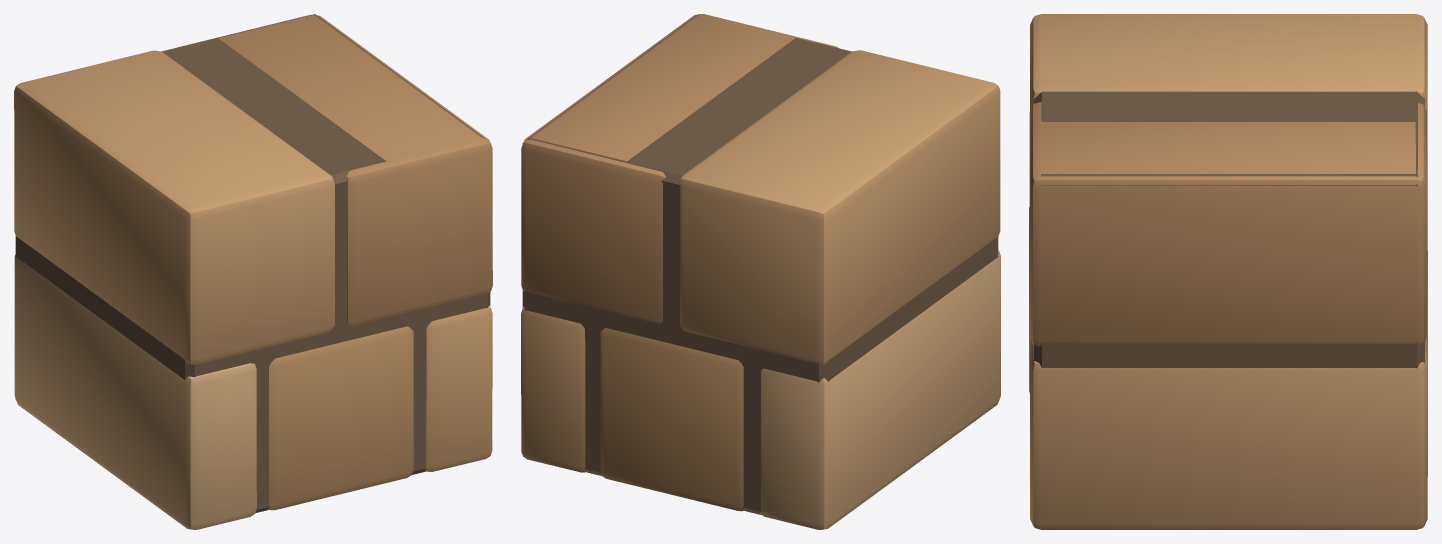
Rendered from brick_0.glb.
3 renders of one model, left to right at view 1: azimuth 30°, elevation 25°; view 2: azimuth 150°, elevation 25°; view 3: azimuth 270°, elevation 25°, orthographic. The views are drawn at different scales.
Parts seen in each view (by area): view 1: brick_0; view 2: brick_0; view 3: brick_0.
Part boxes in pixels (bbox=[...]): brick_0: bbox=[14, 14, 492, 529]; brick_0: bbox=[521, 14, 1000, 529]; brick_0: bbox=[1029, 14, 1427, 529].
Bounding box in the file's own units: 0.9765 × 0.9805 × 0.9886.
